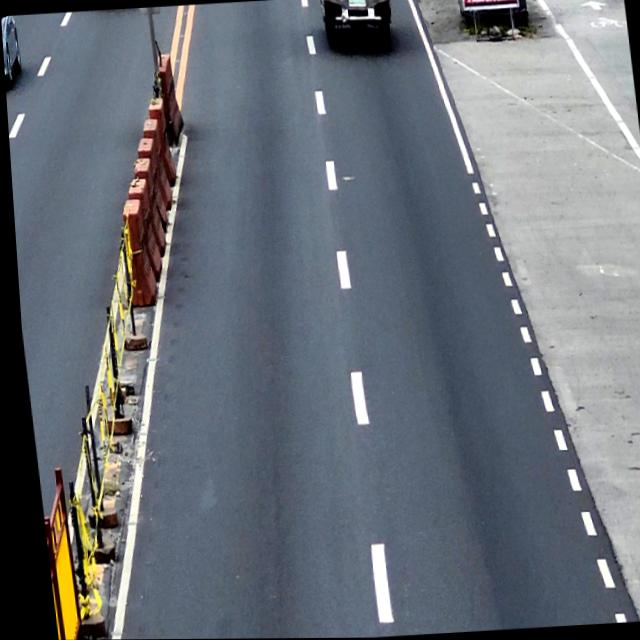Car: (1, 15, 24, 87)
